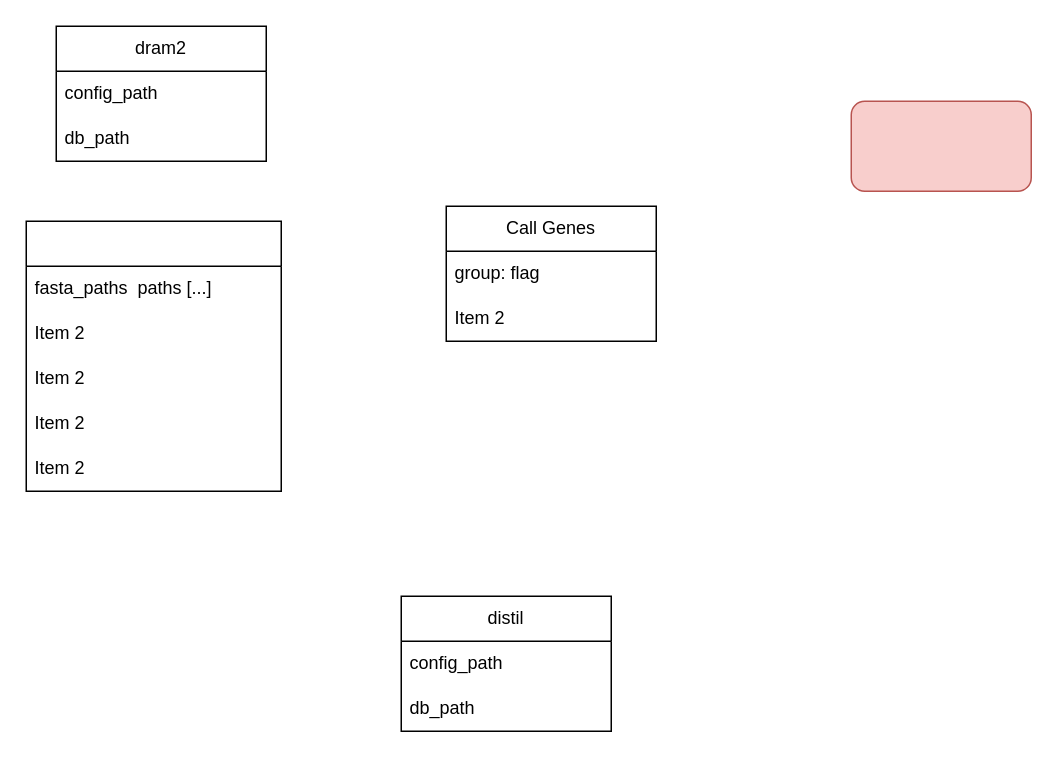
Image size: 1058x758. Some labels were removed from this diagram. Each missing label, with the box of its shape:
Annotate: (25, 220, 281, 491)
Other Called Genes: (850, 100, 1031, 191)
